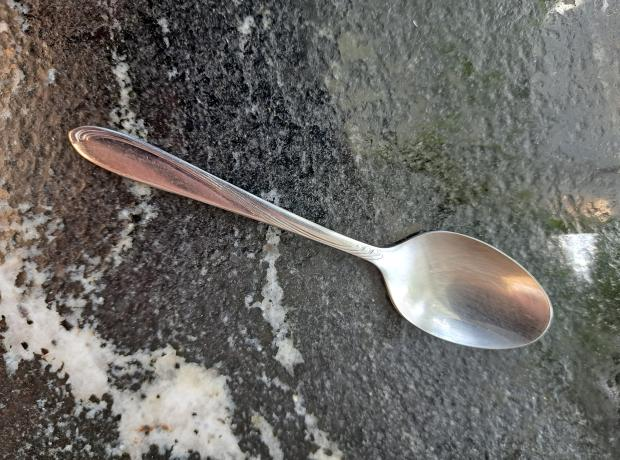metal: (62, 121, 548, 346)
